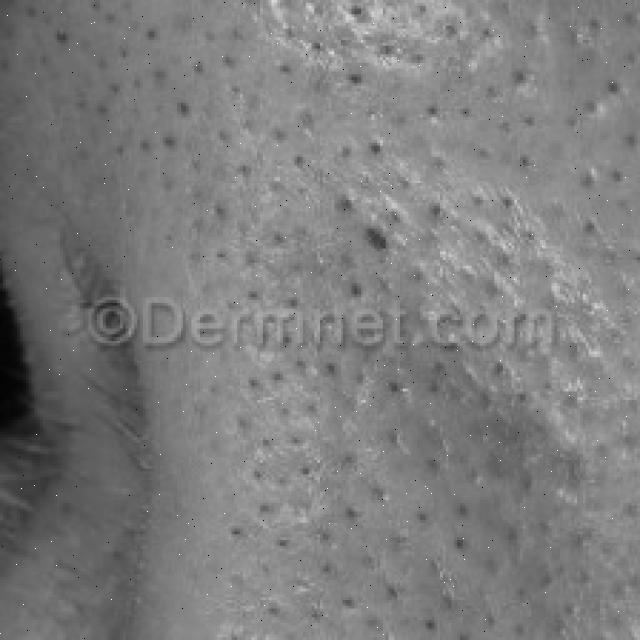Acne: (9, 0, 636, 640)
